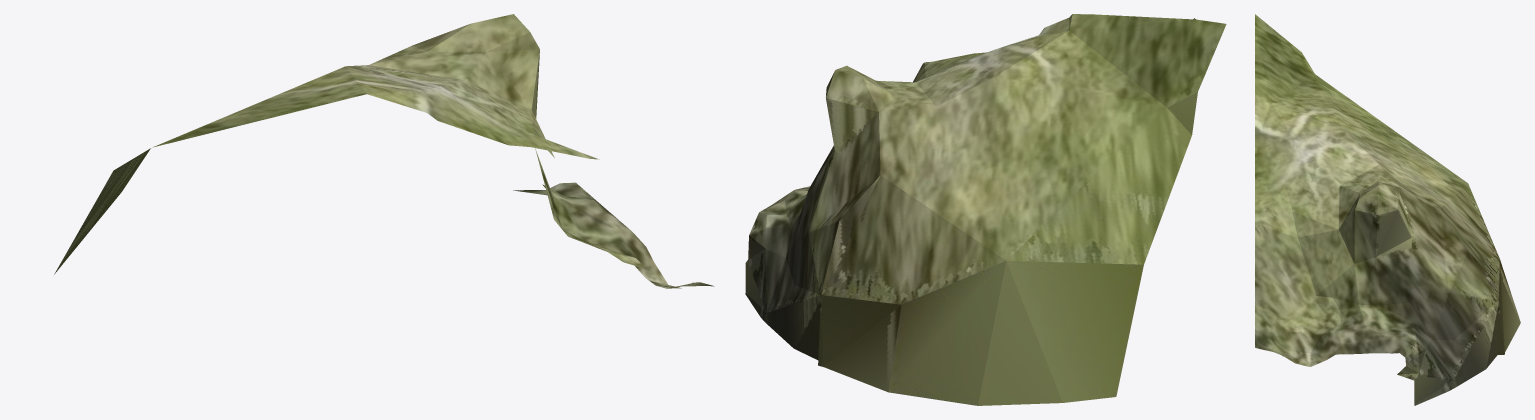
3 renders of one model, left to right at view 1: azimuth 30°, elevation 25°; view 2: azimuth 150°, elevation 25°; view 3: azimuth 270°, elevation 25°, orthographic. The views are drawn at different scales.
Bounding box in the file's own units: 2.95 × 2.15 × 2.17.
3 materials, 3 textured.
